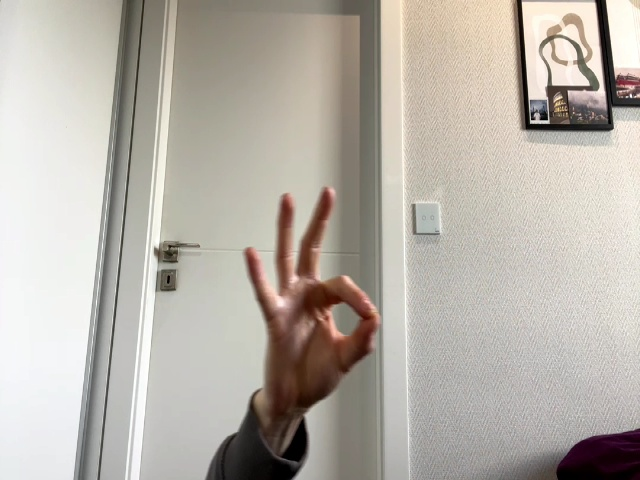O: (245, 187, 380, 393)
